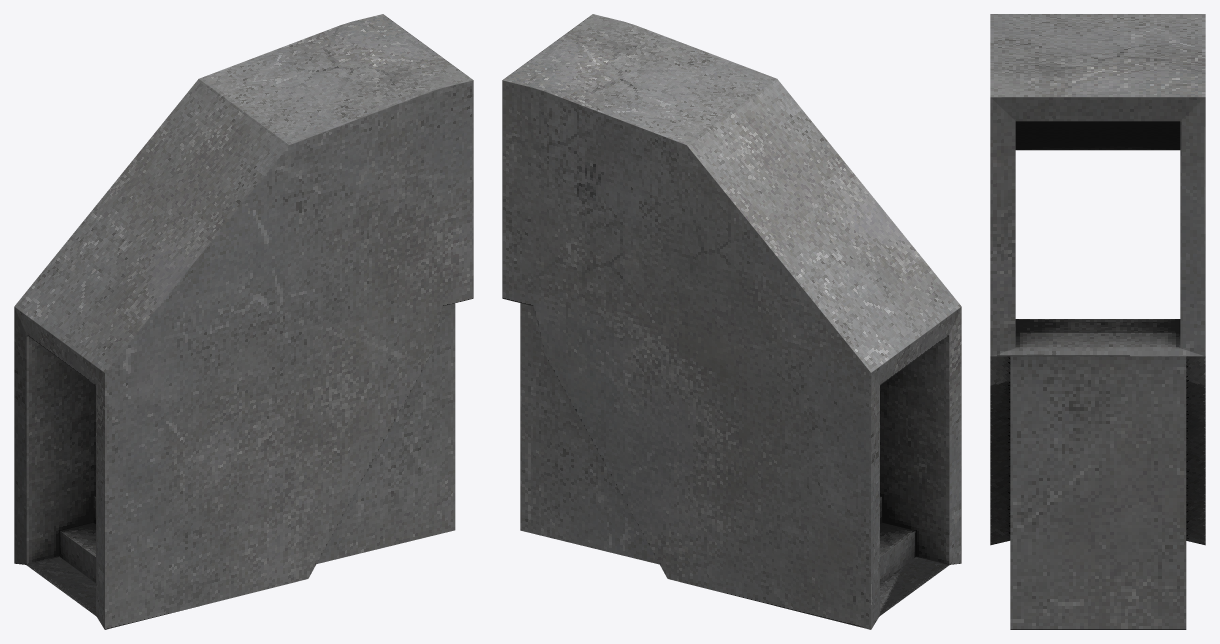
The model's file is PodvalStairs.glb.
The picture shows the model from 3 angles, left to right: view 1: azimuth 30°, elevation 25°; view 2: azimuth 150°, elevation 25°; view 3: azimuth 270°, elevation 25°; orthographic projection. The views are drawn at different scales.
Visible parts, largest first — view 1: Podval; view 2: Podval; view 3: Podval.
Boxes of the visible parts, x1,y1,x2,y2 form: Podval: (14,14,473,629); Podval: (502,14,961,629); Podval: (990,14,1205,629).
Size of the model in its own units: 12.79 by 15.22 by 5.44.
Materials: 1 (1 with a texture image).
